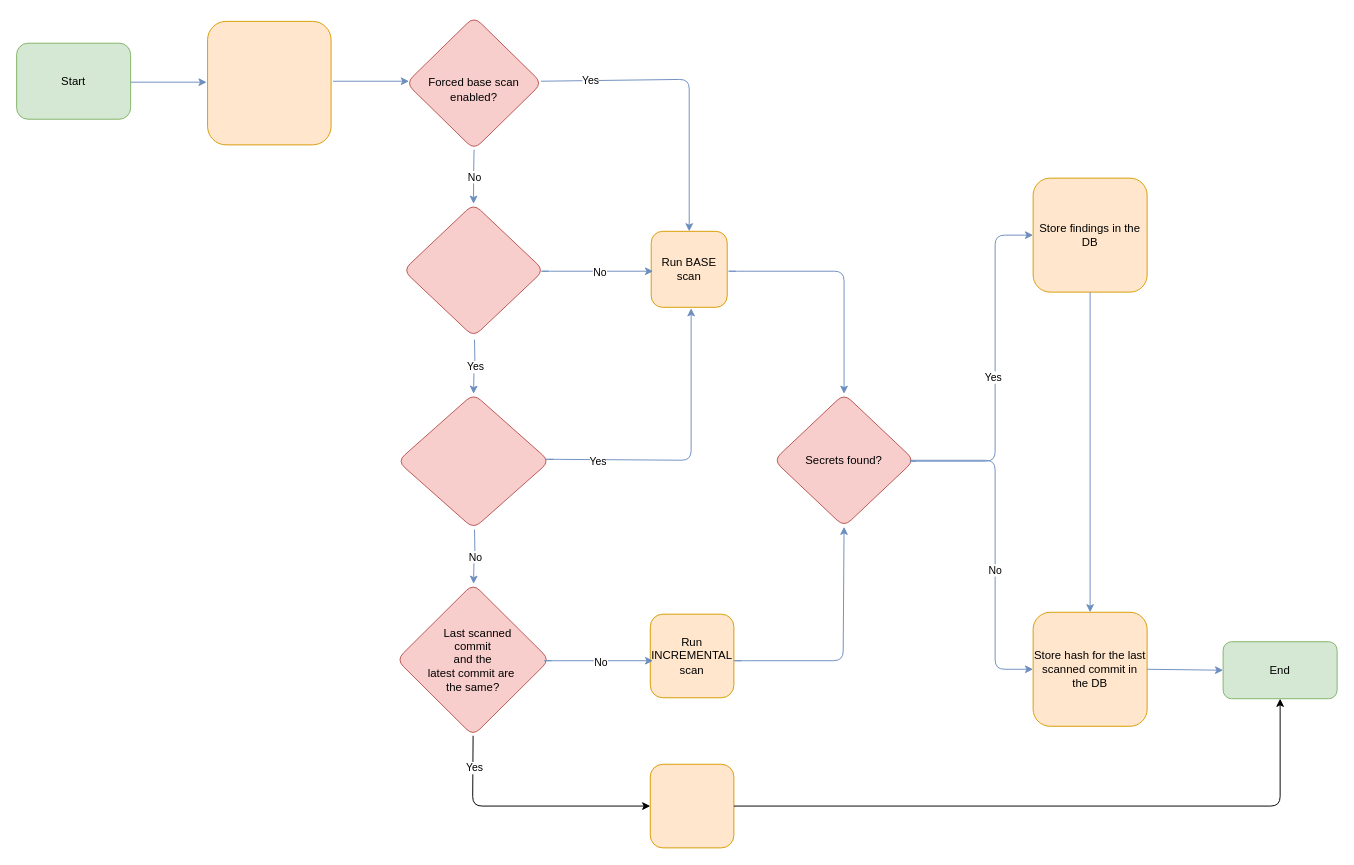
Some shapes in this 1354 by 865 pixel diagram are drawn without their labels. The shapes that lost their labels are listed below. From the top down, each one's box as (x1, y1, x2, y2) in pixels, then its label:
(207, 20, 331, 145): VCS scanner worker picks up branch from the queue
(402, 203, 544, 337): Branch scanned earlier?
(397, 393, 550, 529): Active rule-pack different from previous scan rule-pack?
(649, 763, 734, 848): Skip scan
